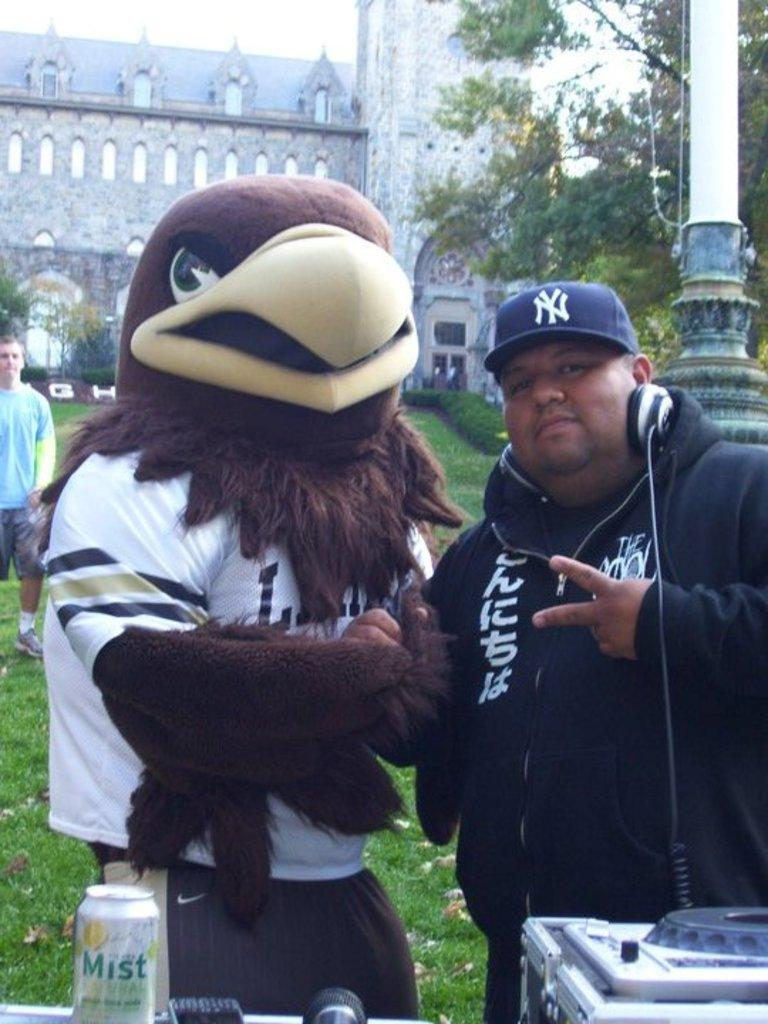Hat: (476, 279, 638, 379)
